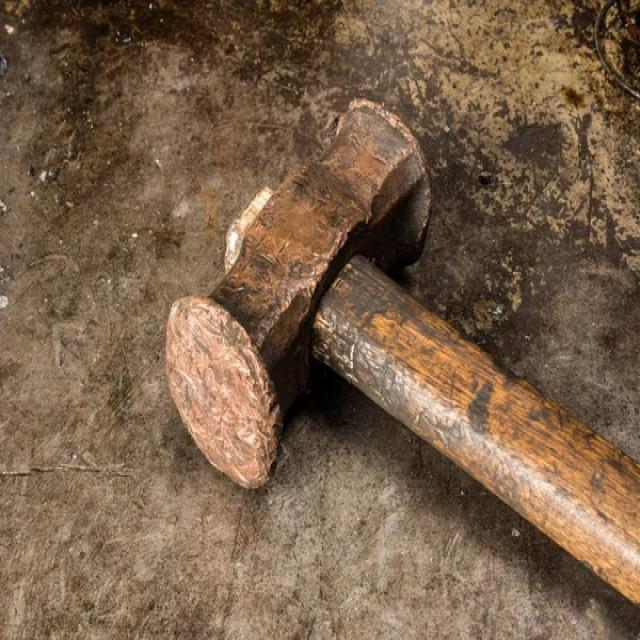hammer: (159, 89, 640, 640)
